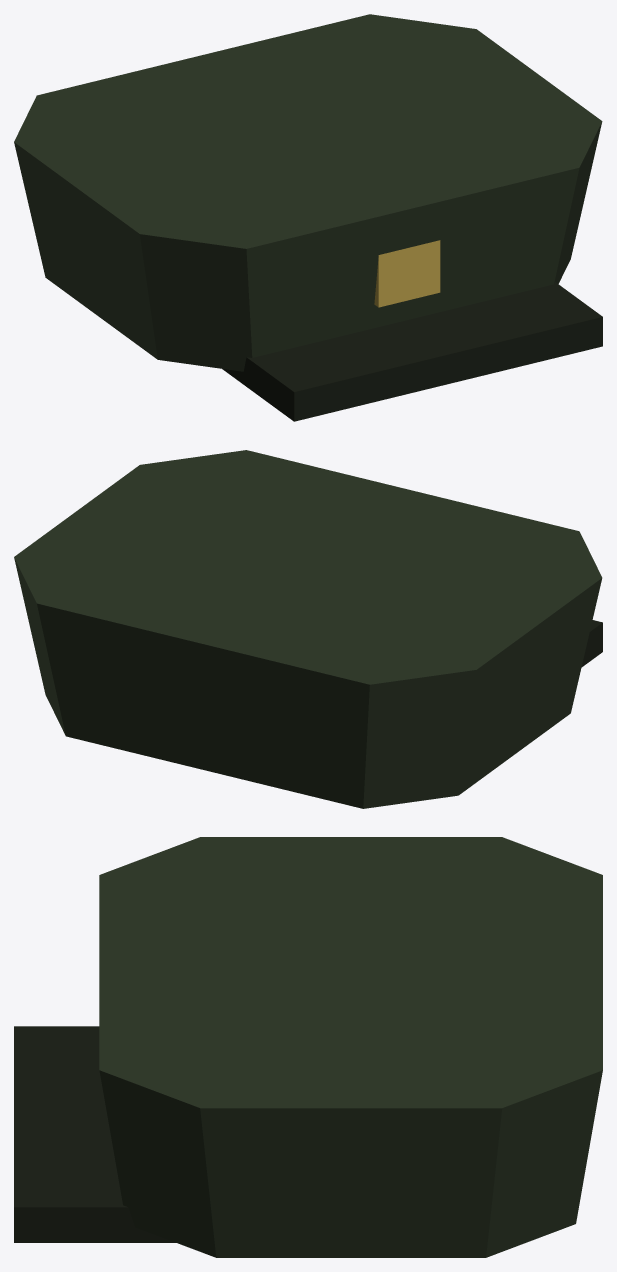
File: officer.glb
3 views of the same model, one above another, from view 1: azimuth 30°, elevation 25°; view 2: azimuth 150°, elevation 25°; view 3: azimuth 270°, elevation 25° (orthographic). The views are drawn at different scales.
Visible parts, largest first — view 1: Officer's Cap.002; view 2: Officer's Cap.002; view 3: Officer's Cap.002.
Part boxes in pixels (x1,y1,x2,y2): Officer's Cap.002: (14, 14, 602, 421); Officer's Cap.002: (14, 450, 602, 808); Officer's Cap.002: (14, 837, 602, 1257).
Bounding box in the file's own units: 0.8053 × 0.2491 × 0.7395.
